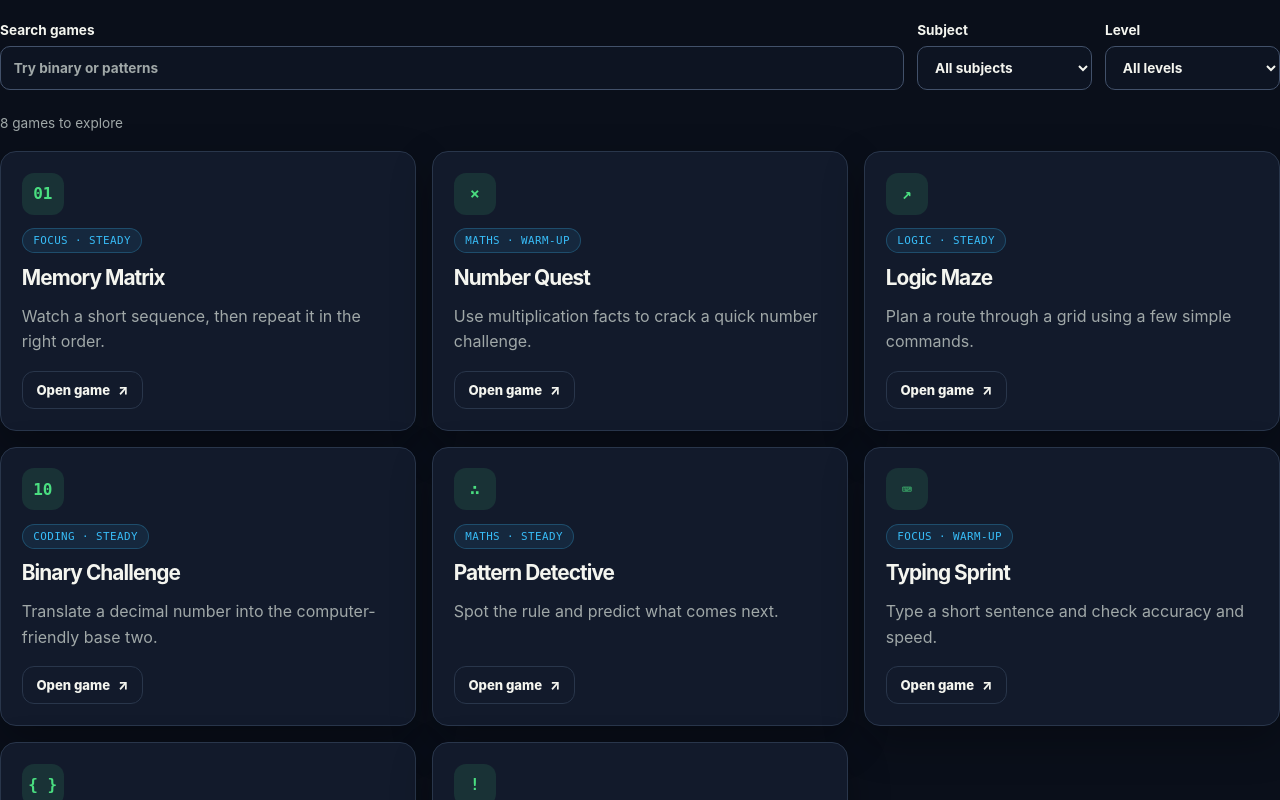
Test: GameCatalog › filters by subject category
Step 1. Select "Maths" in the dropdown labelled "Subject" → x=1005, y=68, box [917,46,1092,90]
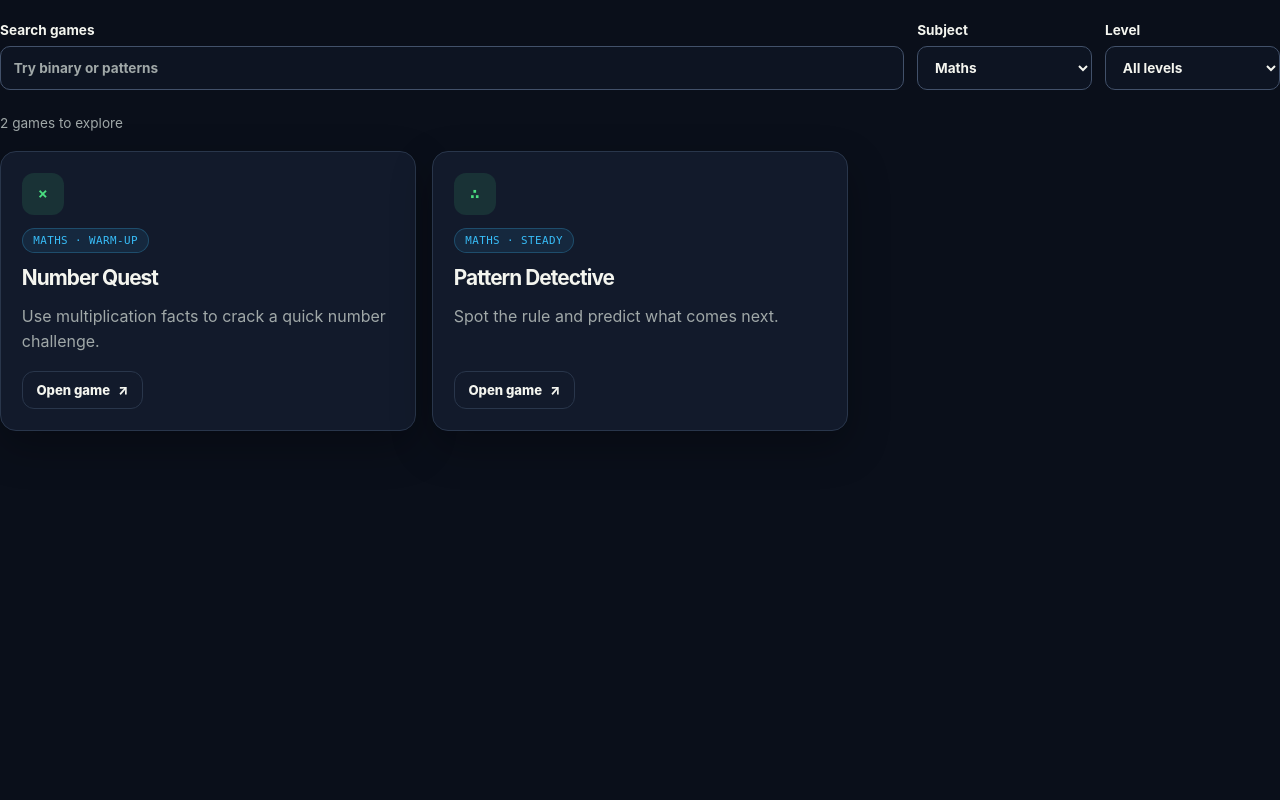
Check: the heading "Number Quest" is shown, box [22,266,158,289]
Check: the heading "Logic Maze" is gone
